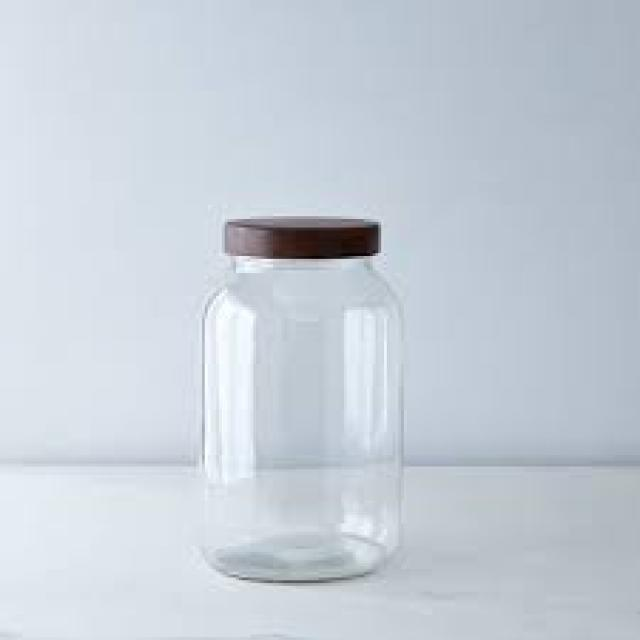glass: (202, 253, 404, 580)
plastic: (222, 213, 375, 259)
